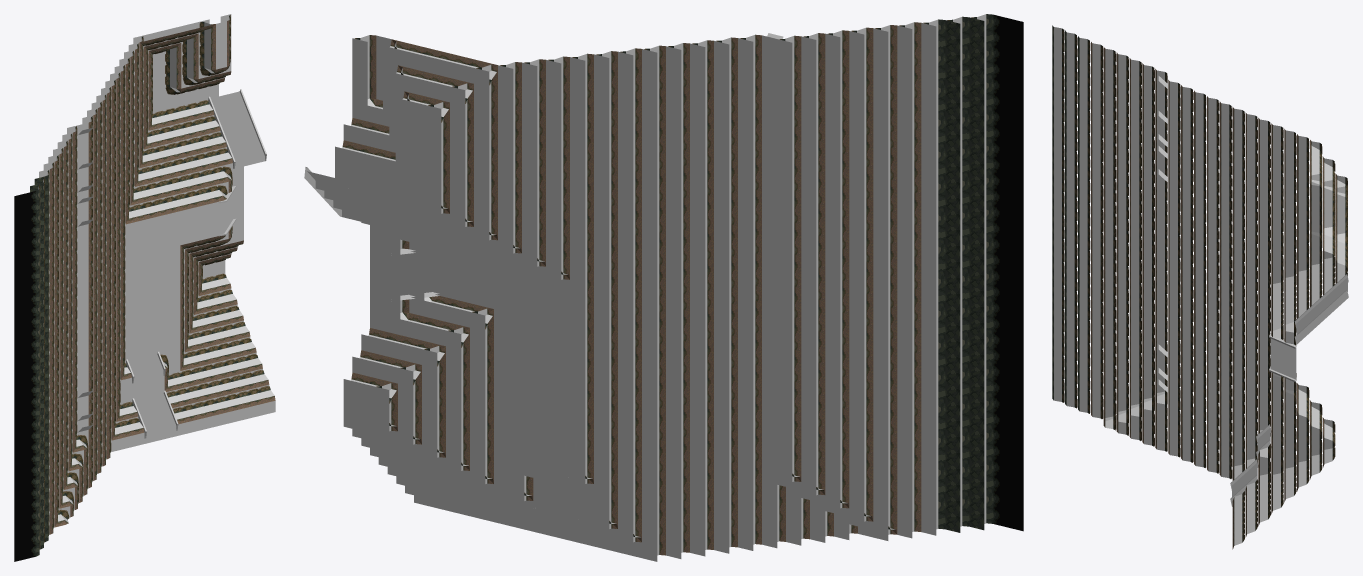
The model's file is Victory-Road-1_00_02.obj.
The picture shows the model from 3 angles, left to right: view 1: azimuth 30°, elevation 25°; view 2: azimuth 150°, elevation 25°; view 3: azimuth 270°, elevation 25°; orthographic projection. The views are drawn at different scales.
Visible parts, largest first — view 1: map; view 2: map; view 3: map.
Boxes of the visible parts, <box> form: map: <box>14,14,275,561</box>; map: <box>304,14,1023,561</box>; map: <box>1052,25,1348,549</box>.
Size of the model in its own units: 34 by 32 by 23.01.
